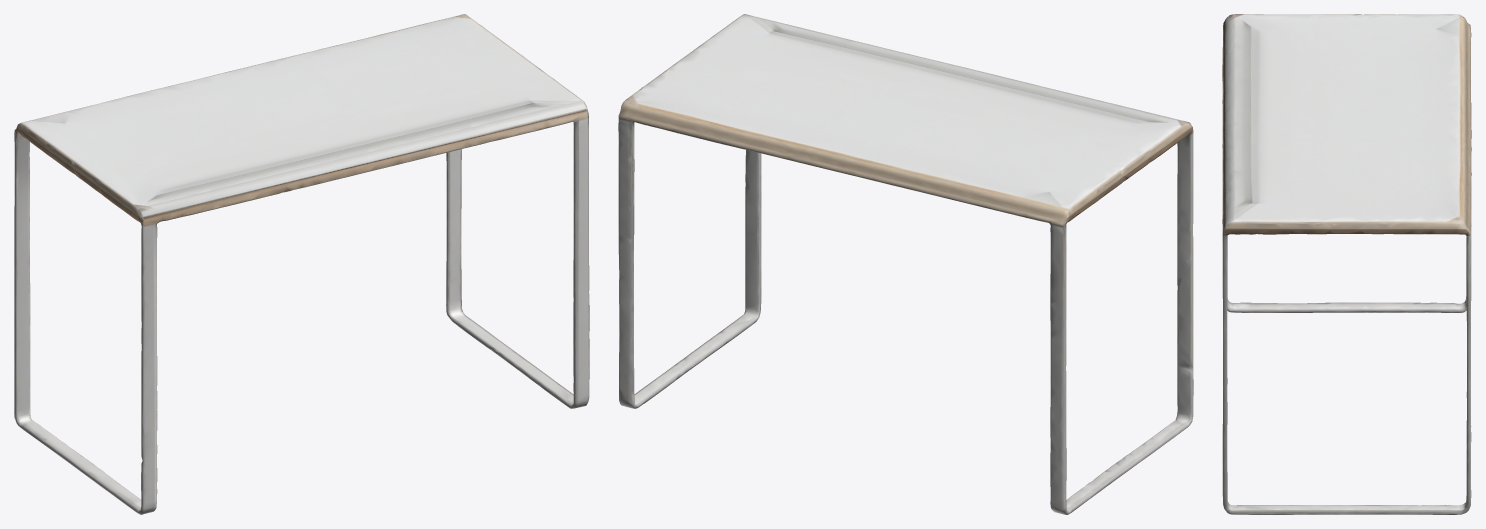
The model's file is A_modern_console_tabl_1127234823_texture.fbx.
3 views of the same model, side by side, from view 1: azimuth 30°, elevation 25°; view 2: azimuth 150°, elevation 25°; view 3: azimuth 270°, elevation 25° (orthographic). The views are drawn at different scales.
Parts seen in each view (by area): view 1: Mesh_0; view 2: Mesh_0; view 3: Mesh_0.
Part boxes in pixels (x1,y1,x2,y2): Mesh_0: (14, 14, 589, 514); Mesh_0: (618, 14, 1193, 514); Mesh_0: (1222, 14, 1471, 514).
Size of the model in its own units: 201 by 131 by 101.
Materials: 1 (1 with a texture image).
